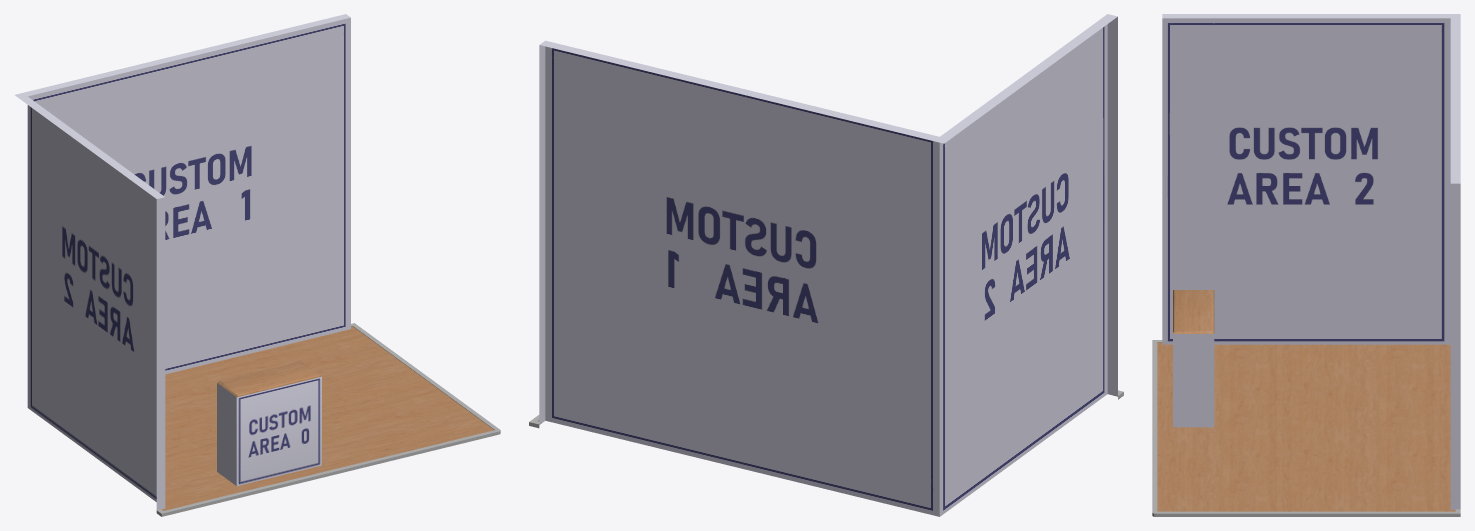
Rendered from LRStand.fbx.
3 views of the same model, side by side, from view 1: azimuth 30°, elevation 25°; view 2: azimuth 150°, elevation 25°; view 3: azimuth 270°, elevation 25° (orthographic). The views are drawn at different scales.
Visible parts, largest first — view 1: stand_right; view 2: stand_right; view 3: stand_right.
Part boxes in pixels (x1,y1,x2,y2): stand_right: (15,14,500,516); stand_right: (529,14,1123,516); stand_right: (1152,14,1460,516).
Bounding box in the file's own units: 400 × 353 × 300.
